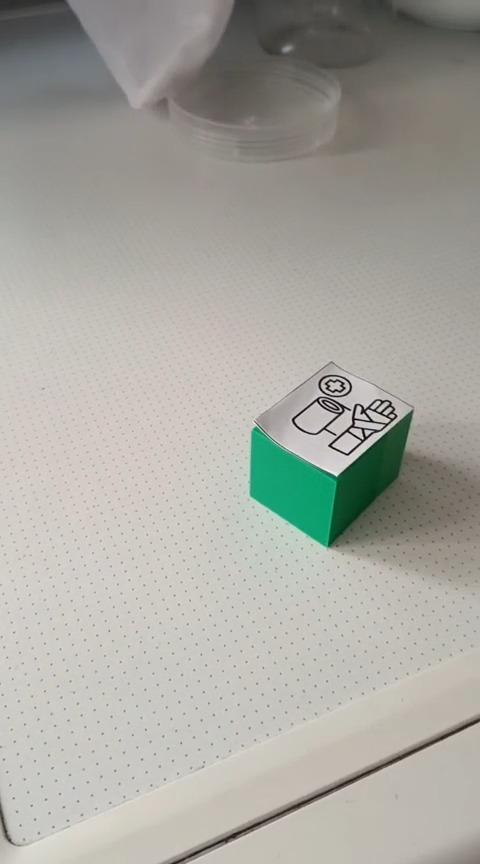Bandages: (249, 359, 416, 549)
